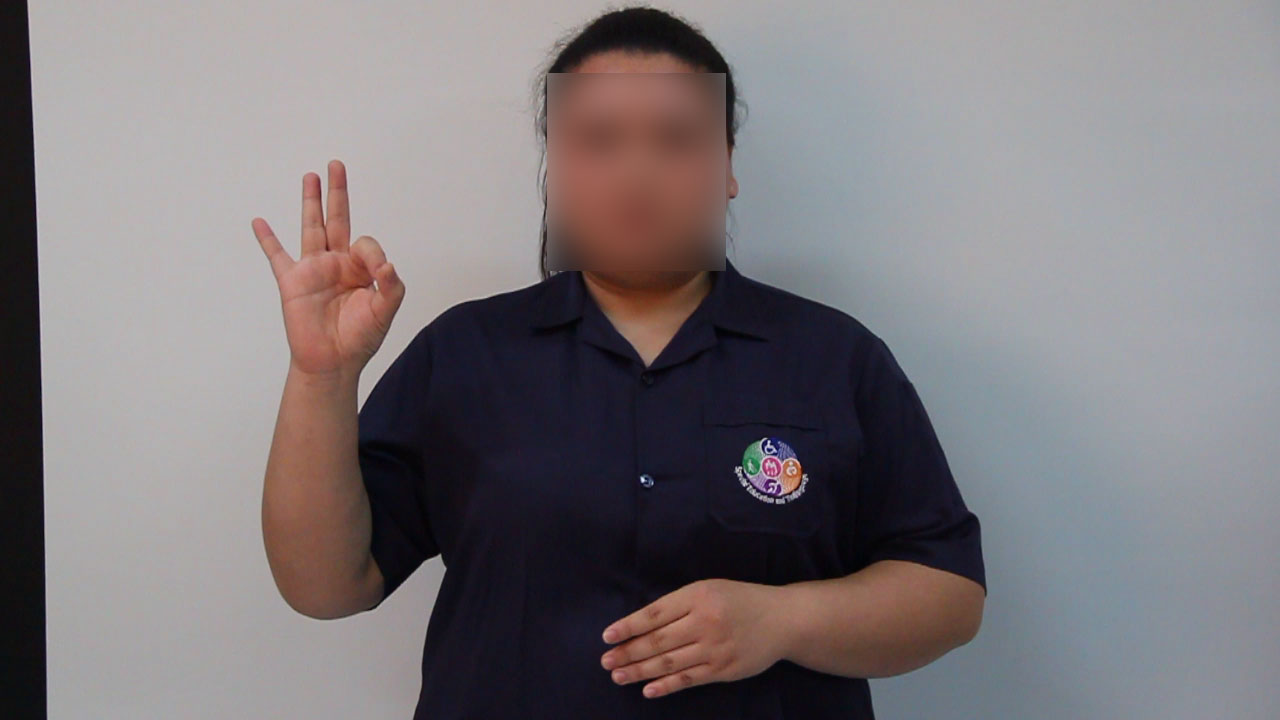for: (248, 150, 409, 385)
